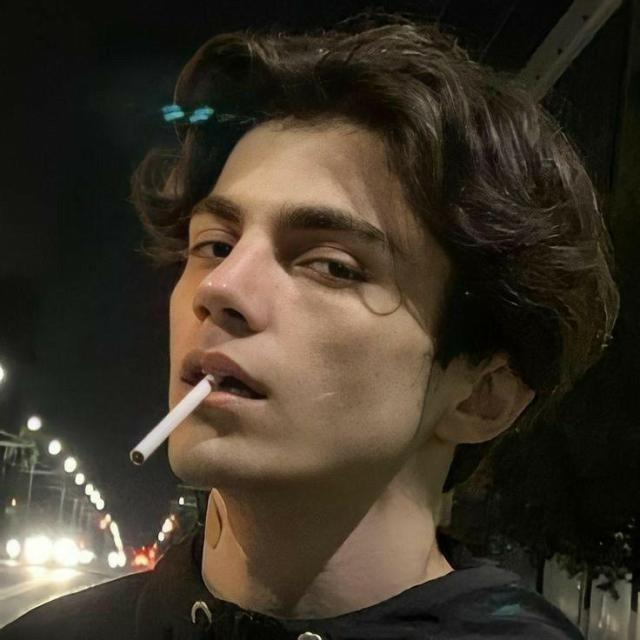cigarette: (87, 330, 261, 524)
